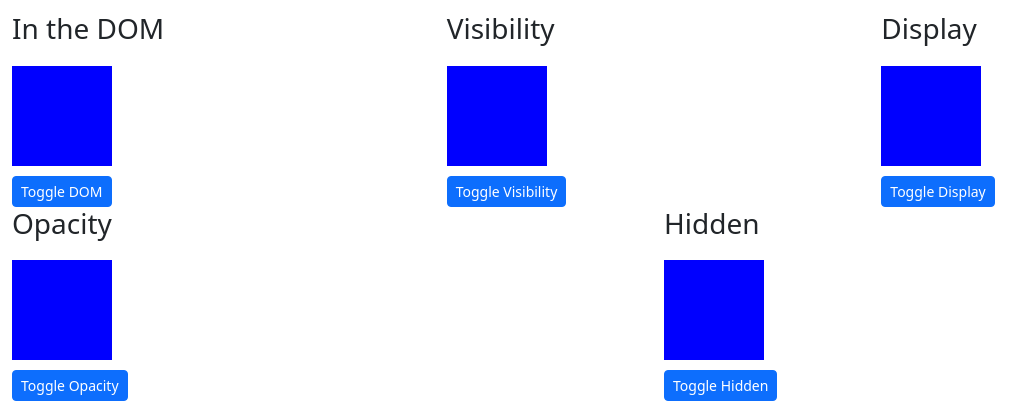
Visibility tests › Toggle Display
The image size is (1016, 418).
Expected: the element with test id "display" is shown, [881,66,981,166]
Click the button "Toggle Display".
click(938, 191)  # box [881,176,995,207]
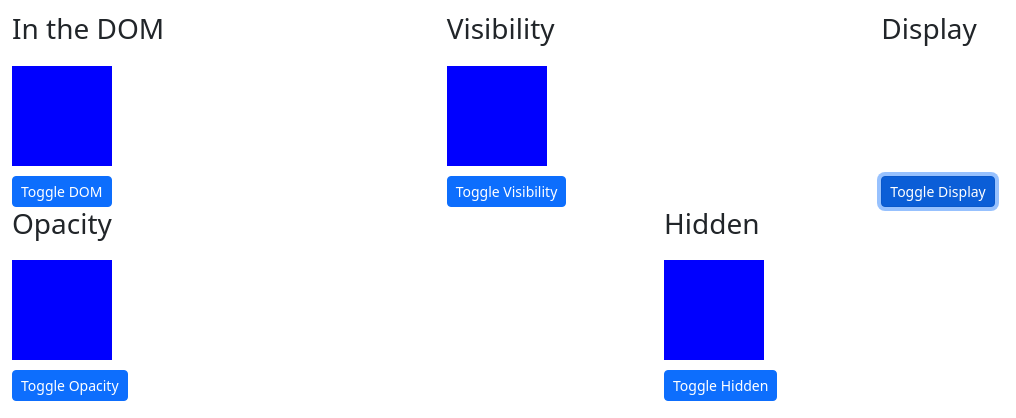
Expected: the element with test id "display" is gone
